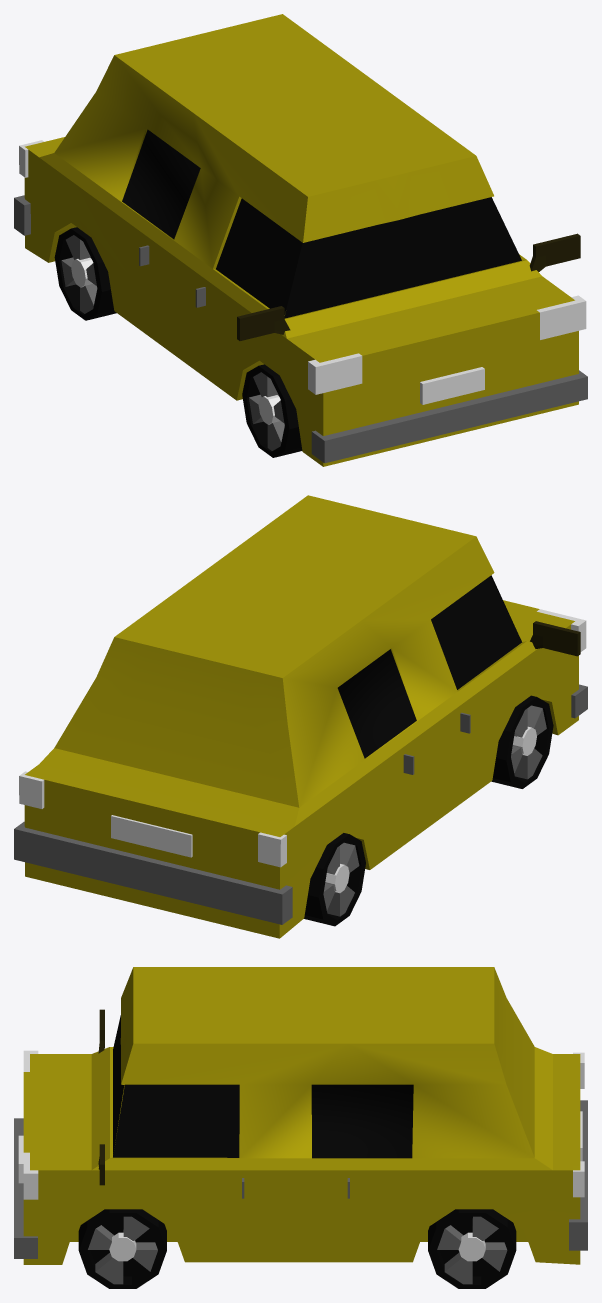
The model's file is car4.fbx.
The picture shows the model from 3 angles, top to bottom: view 1: azimuth 30°, elevation 25°; view 2: azimuth 150°, elevation 25°; view 3: azimuth 270°, elevation 25°; orthographic projection. The views are drawn at different scales.
Parts seen in each view (by area): view 1: Cube; view 2: Cube; view 3: Cube.
Boxes of the visible parts, box(x1,y1,x2,y2) form: Cube: box(14, 14, 587, 466); Cube: box(14, 495, 587, 938); Cube: box(14, 967, 587, 1288).
Size of the model in its own units: 266 by 179 by 417.
